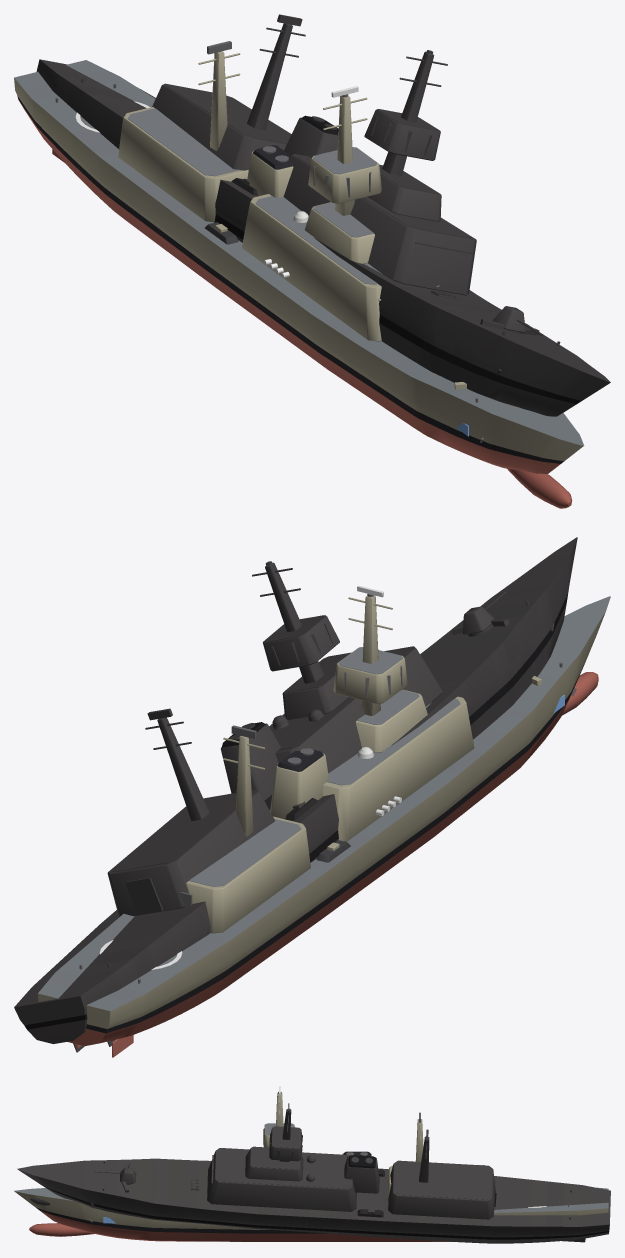
File: corvette__anzac_class.glb
3 views of the same model, one above another, from view 1: azimuth 30°, elevation 25°; view 2: azimuth 150°, elevation 25°; view 3: azimuth 270°, elevation 25° (orthographic). The views are drawn at different scales.
Parts seen in each view (by area): view 1: Hull_Mesh, Wreck; view 2: Hull_Mesh, Wreck; view 3: Wreck, Hull_Mesh.
Part boxes in pixels (box(x1,y1,x2,y2)): Hull_Mesh: box(14, 41, 584, 508); Wreck: box(36, 14, 610, 416); Hull_Mesh: box(37, 595, 610, 1057); Wreck: box(14, 537, 577, 1052); Wreck: box(17, 1103, 610, 1243); Hull_Mesh: box(14, 1093, 608, 1241).
Size of what is drawn, in the model's own units: 22.07 by 35.09 by 123.
